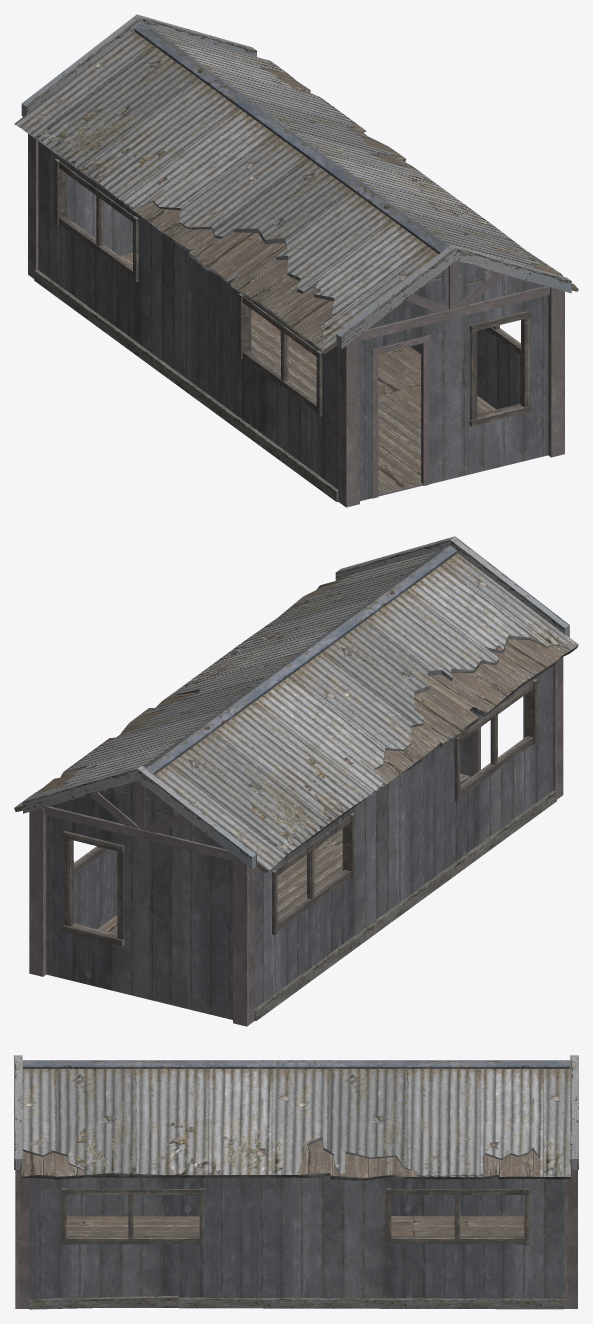
The model's file is Building_LinjgdDj002b.glb.
The picture shows the model from 3 angles, top to bottom: view 1: azimuth 30°, elevation 25°; view 2: azimuth 150°, elevation 25°; view 3: azimuth 270°, elevation 25°; orthographic projection. The views are drawn at different scales.
Visible parts, largest first — view 1: bmsl_linjgd_dj002b; view 2: bmsl_linjgd_dj002b; view 3: bmsl_linjgd_dj002b.
Part boxes in pixels (x1,y1,x2,y2): bmsl_linjgd_dj002b: (14,14,578,507); bmsl_linjgd_dj002b: (14,536,578,1026); bmsl_linjgd_dj002b: (14,1055,578,1309).
Bounding box in the file's own units: 7.29 × 6.24 × 15.49.
Materials: 1 (1 with a texture image).
